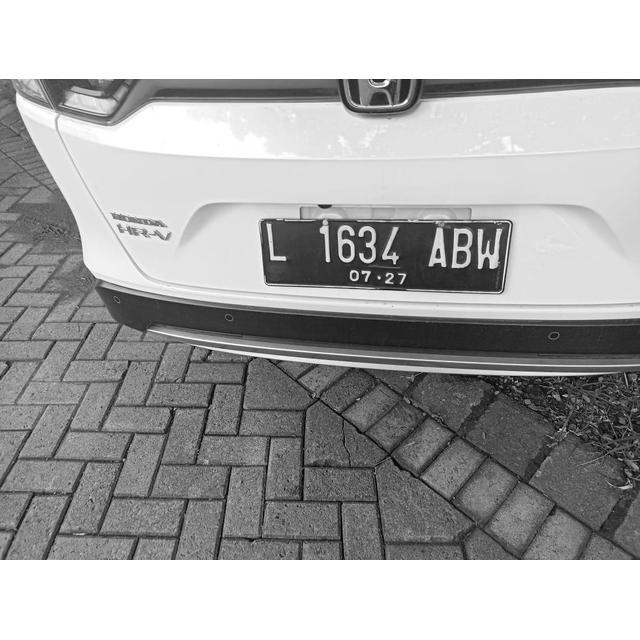license: (264, 221, 505, 292)
